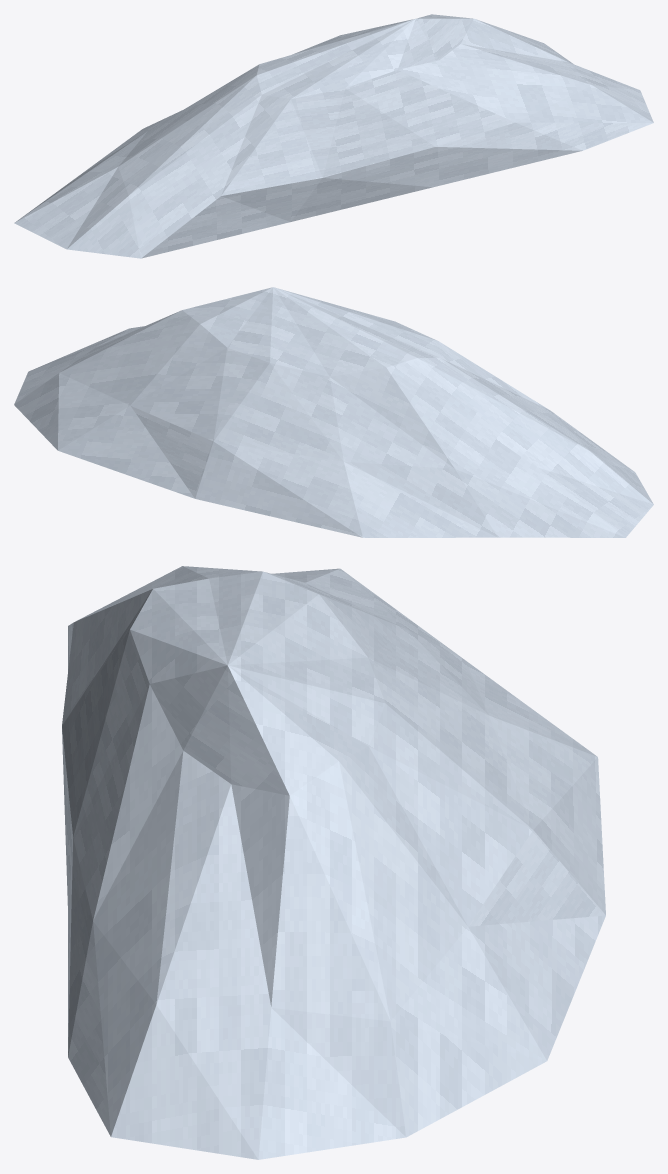
Rendered from drift_fence.glb.
3 renders of one model, top to bottom at view 1: azimuth 30°, elevation 25°; view 2: azimuth 150°, elevation 25°; view 3: azimuth 270°, elevation 25°, orthographic. The views are drawn at different scales.
Visible parts, largest first — view 1: drift_fence; view 2: drift_fence; view 3: drift_fence.
Part boxes in pixels (x1,y1,x2,y2): drift_fence: (14, 14, 653, 258); drift_fence: (14, 287, 653, 537); drift_fence: (62, 566, 605, 1159).
Size of the model in its own units: 1.8 by 0.38 by 0.7.
Materials: 1 (1 with a texture image).
